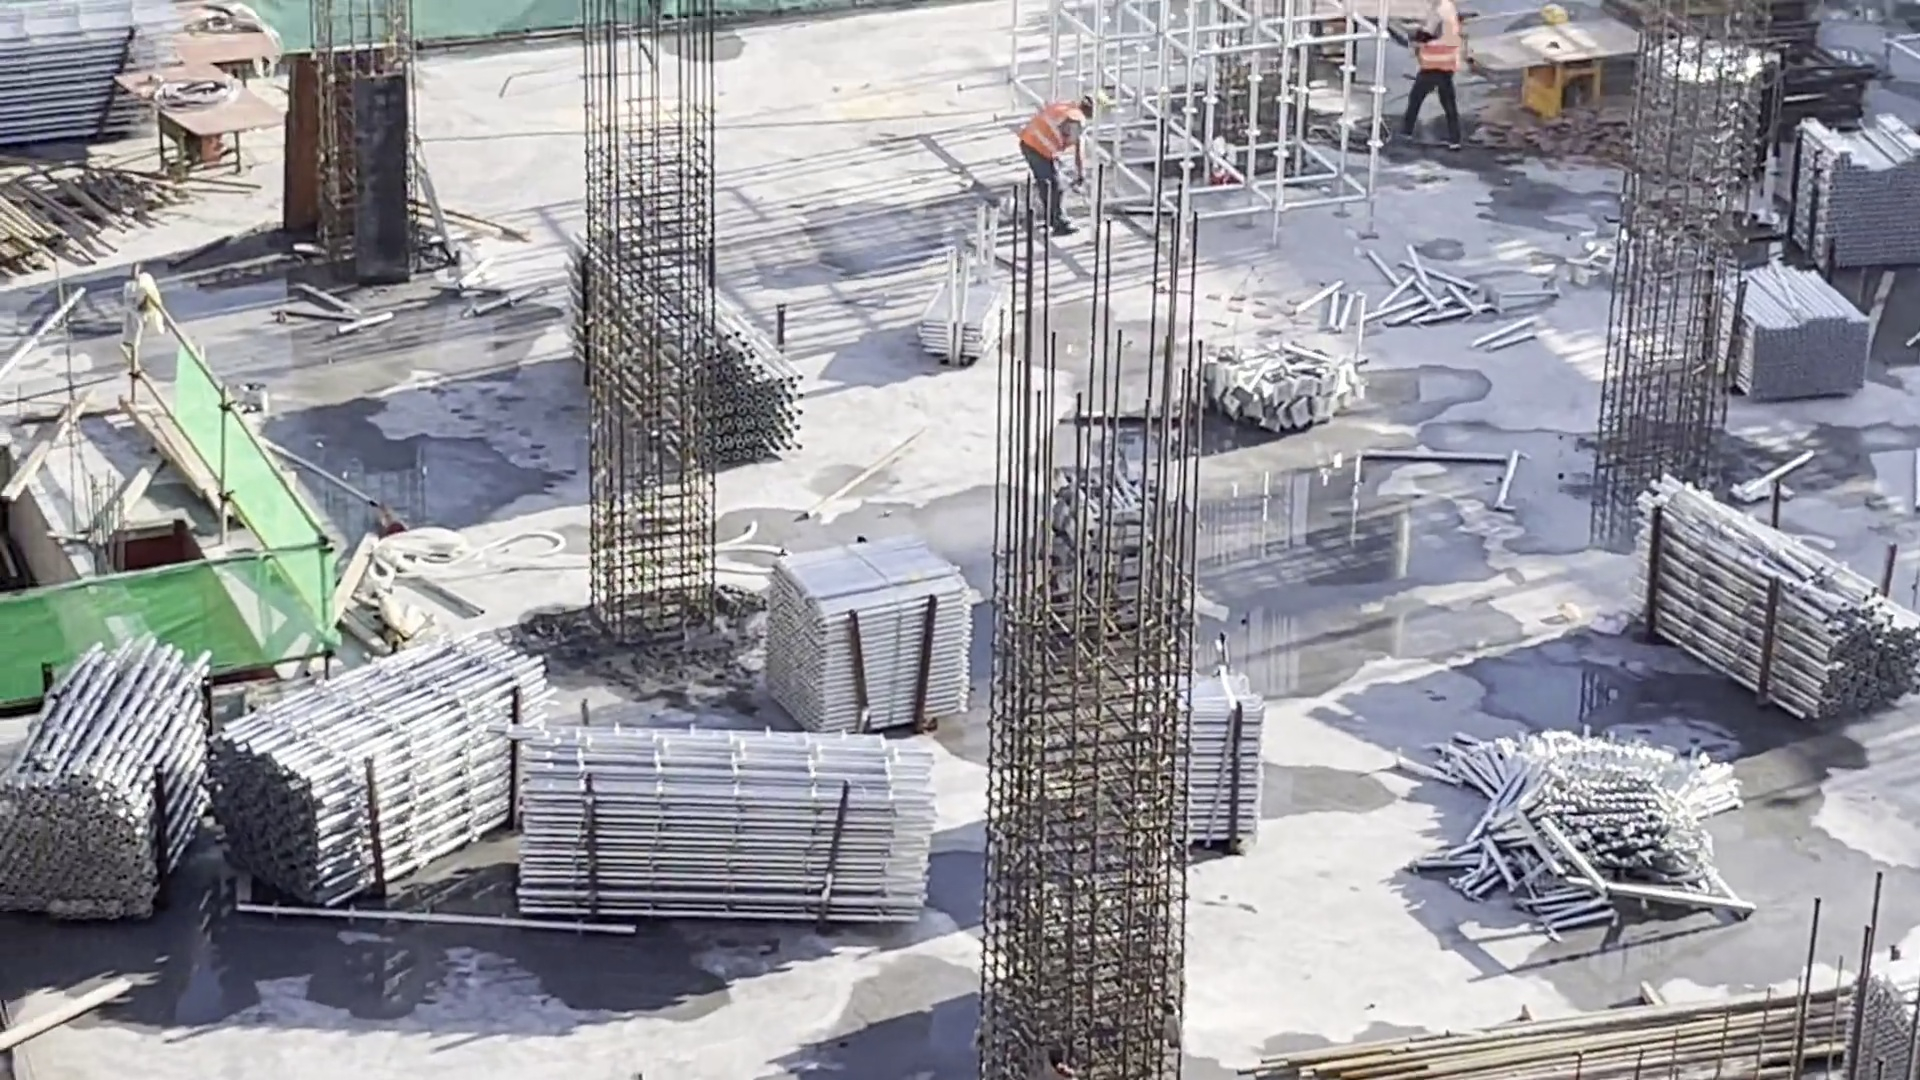cutter: (145, 59, 256, 185), (1500, 44, 1661, 108), (164, 1, 268, 85)
helmet: (1533, 1, 1570, 22), (1078, 91, 1104, 118)
person: (1007, 89, 1110, 248), (1385, 1, 1478, 156)
scaffold: (536, 736, 936, 939), (1649, 520, 1912, 780), (287, 628, 509, 888), (13, 661, 215, 907), (1474, 741, 1763, 911), (560, 245, 773, 468), (768, 551, 964, 729), (1, 1, 165, 139), (1655, 52, 1769, 181), (1739, 265, 1852, 396), (1809, 132, 1920, 256), (909, 281, 988, 360), (1172, 696, 1201, 869)
vest: (1019, 102, 1084, 184), (1415, 18, 1459, 81)
